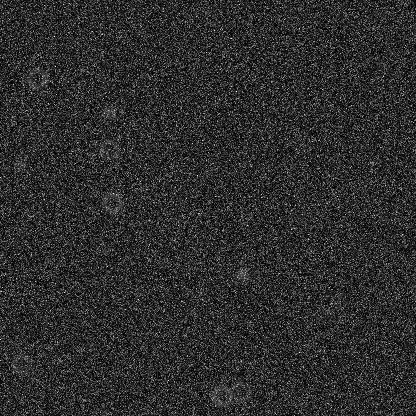Ring: (100, 190, 124, 214), (229, 379, 253, 403), (316, 292, 340, 316), (9, 351, 33, 375), (97, 137, 121, 161), (25, 66, 49, 90), (209, 383, 233, 407)
Spot: (276, 383, 292, 399), (12, 156, 28, 172), (234, 266, 250, 282), (100, 104, 116, 120)
